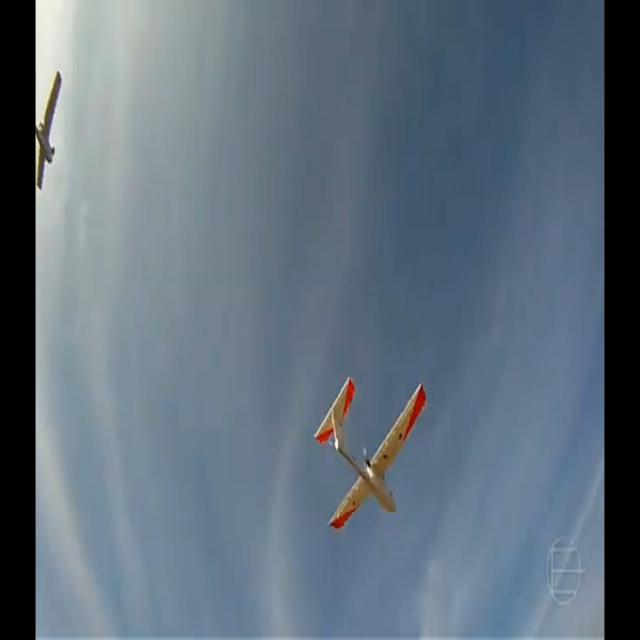iha: (346, 374, 397, 533)
